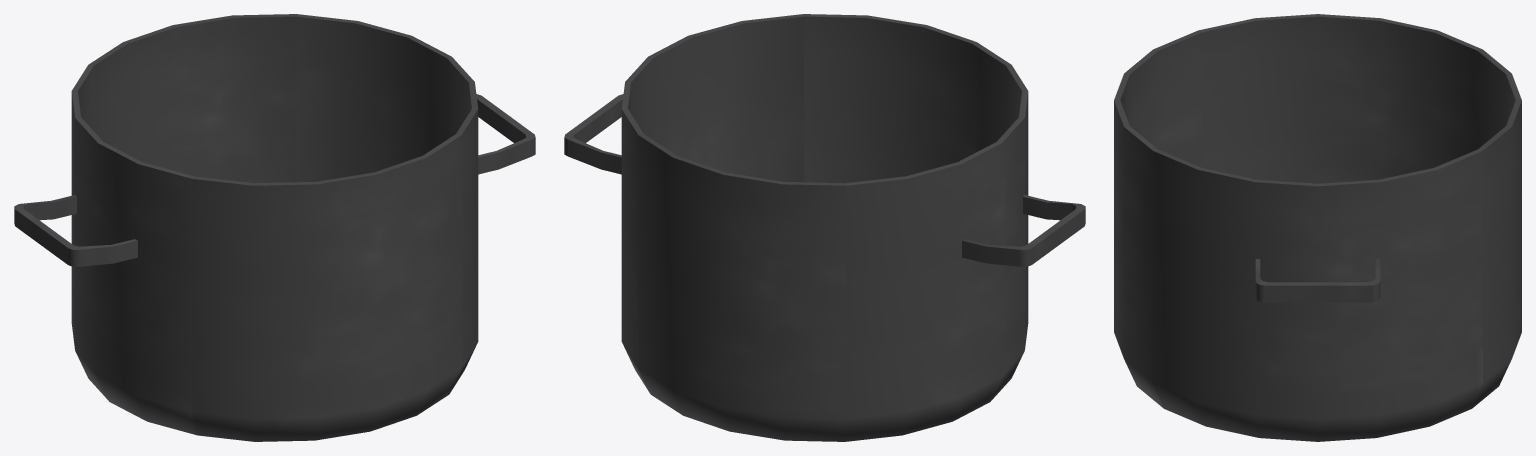
File: pot_2.fbx
The picture shows the model from 3 angles, left to right: view 1: azimuth 30°, elevation 25°; view 2: azimuth 150°, elevation 25°; view 3: azimuth 270°, elevation 25°; orthographic projection.
Parts seen in each view (by area): view 1: polySurface14; view 2: polySurface14; view 3: polySurface14.
Part boxes in pixels (x1,y1,x2,y2): polySurface14: (14,14,535,441); polySurface14: (564,14,1085,441); polySurface14: (1114,14,1521,441).
Bounding box in the file's own units: 34.82 × 19.53 × 26.43.
1 material, 1 textured.
